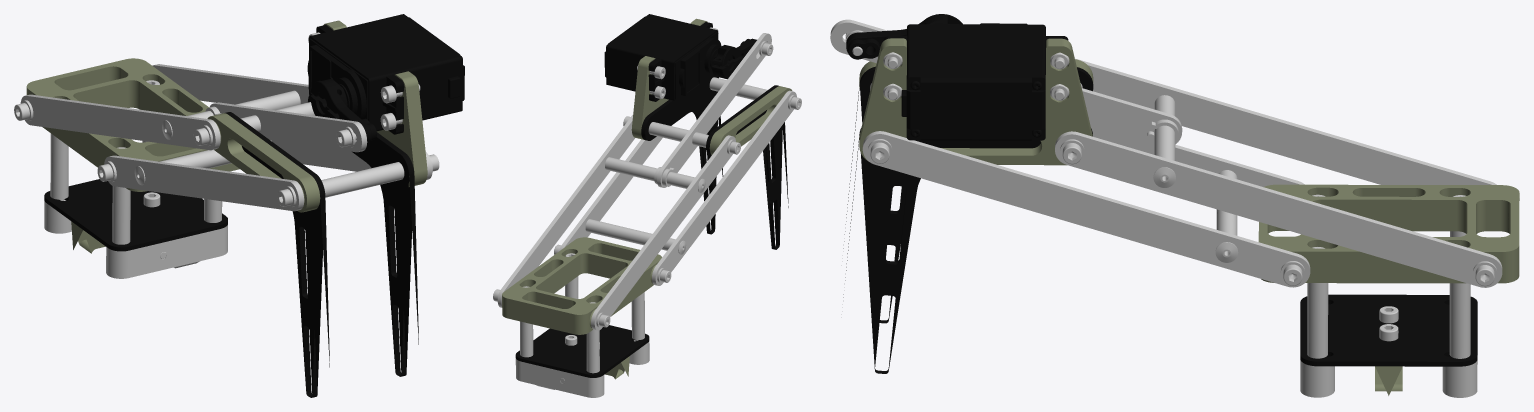
File: servo_arm.obj
3 renders of one model, left to right at view 1: azimuth 30°, elevation 25°; view 2: azimuth 150°, elevation 25°; view 3: azimuth 270°, elevation 25°, orthographic. The views are drawn at different scales.
Parts seen in each view (by area): view 1: Body1.2019; view 2: Body1.2019; view 3: Body1.2019.
Boxes of the visible parts, x1,y1,x2,y2 form: Body1.2019: (14, 14, 464, 397); Body1.2019: (493, 14, 801, 397); Body1.2019: (830, 14, 1519, 397).
Size of the model in its own units: 0.0753 by 0.1131 by 0.1983.
